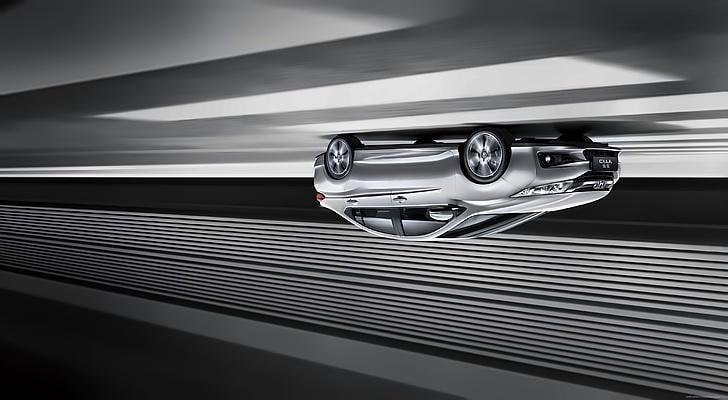Car hood: (477, 188, 611, 214)
Fender - -F-L-: (453, 170, 510, 225)
Fender - -R-L-: (314, 164, 359, 218)
Front bumper: (502, 137, 623, 189)
Headlight - -L-: (509, 177, 576, 199)
Passenger-s door - -F-L-: (383, 133, 466, 249)
Passenger-s door - -R-L-: (342, 138, 410, 245)
Rear bumper: (307, 151, 331, 191)
Rear light - -L-: (310, 186, 326, 204)
Side bumper - -L-: (349, 134, 463, 172)
Side mirror - -L-: (424, 204, 464, 223)
